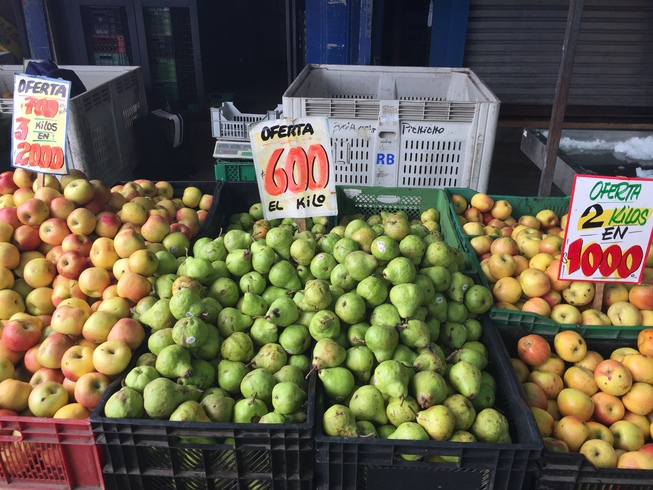precio: (240, 109, 354, 235), (552, 165, 653, 298), (7, 73, 76, 181)
